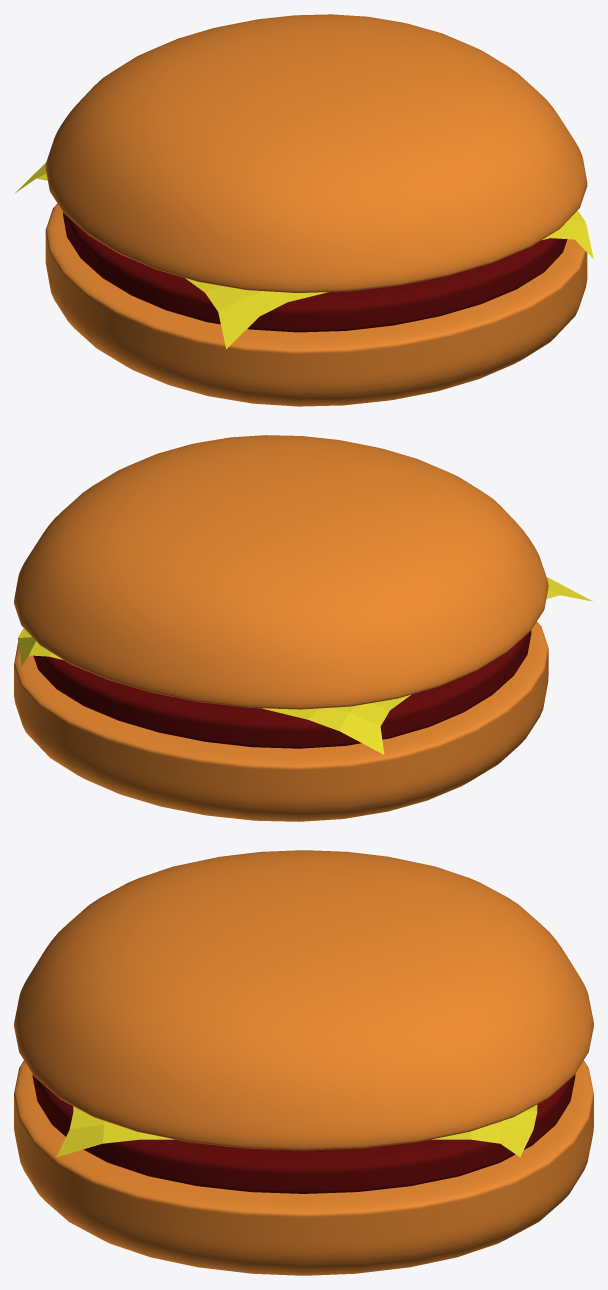
The model's file is hamburger.glb.
The picture shows the model from 3 angles, top to bottom: view 1: azimuth 30°, elevation 25°; view 2: azimuth 150°, elevation 25°; view 3: azimuth 270°, elevation 25°; orthographic projection. The views are drawn at different scales.
Visible parts, largest first — view 1: Cube.002, Cube, Cube.001, Plane; view 2: Cube.002, Cube, Cube.001, Plane; view 3: Cube.002, Cube, Cube.001, Plane.
Part boxes in pixels (left/top/right/bottom): Cube.002: left=45, top=14, right=587, bottom=292; Cube: left=45, top=203, right=587, bottom=406; Cube.001: left=63, top=212, right=567, bottom=332; Plane: left=15, top=162, right=593, bottom=348; Cube.002: left=14, top=435, right=548, bottom=709; Cube: left=14, top=621, right=548, bottom=821; Cube.001: left=33, top=630, right=531, bottom=748; Plane: left=17, top=577, right=592, bottom=754; Cube.002: left=14, top=850, right=593, bottom=1150; Cube: left=14, top=1060, right=593, bottom=1275; Cube.001: left=32, top=1074, right=575, bottom=1193; Plane: left=56, top=1105, right=537, bottom=1157.
Size of the model in its own units: 9.13 by 4.93 by 9.13.
